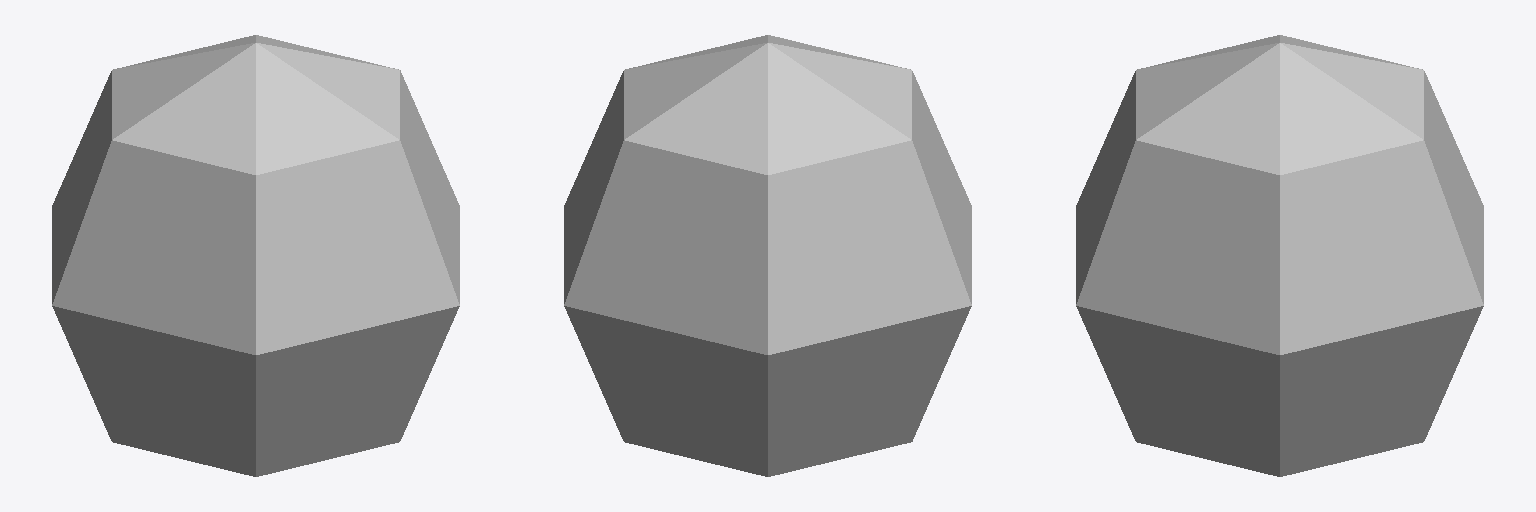
File: FURNITURE_Pool Ball.obj
The picture shows the model from 3 angles: view 1: azimuth 30°, elevation 25°; view 2: azimuth 150°, elevation 25°; view 3: azimuth 270°, elevation 25°; orthographic projection.
Bounding box in the file's own units: 0.0531 × 0.0531 × 0.046.